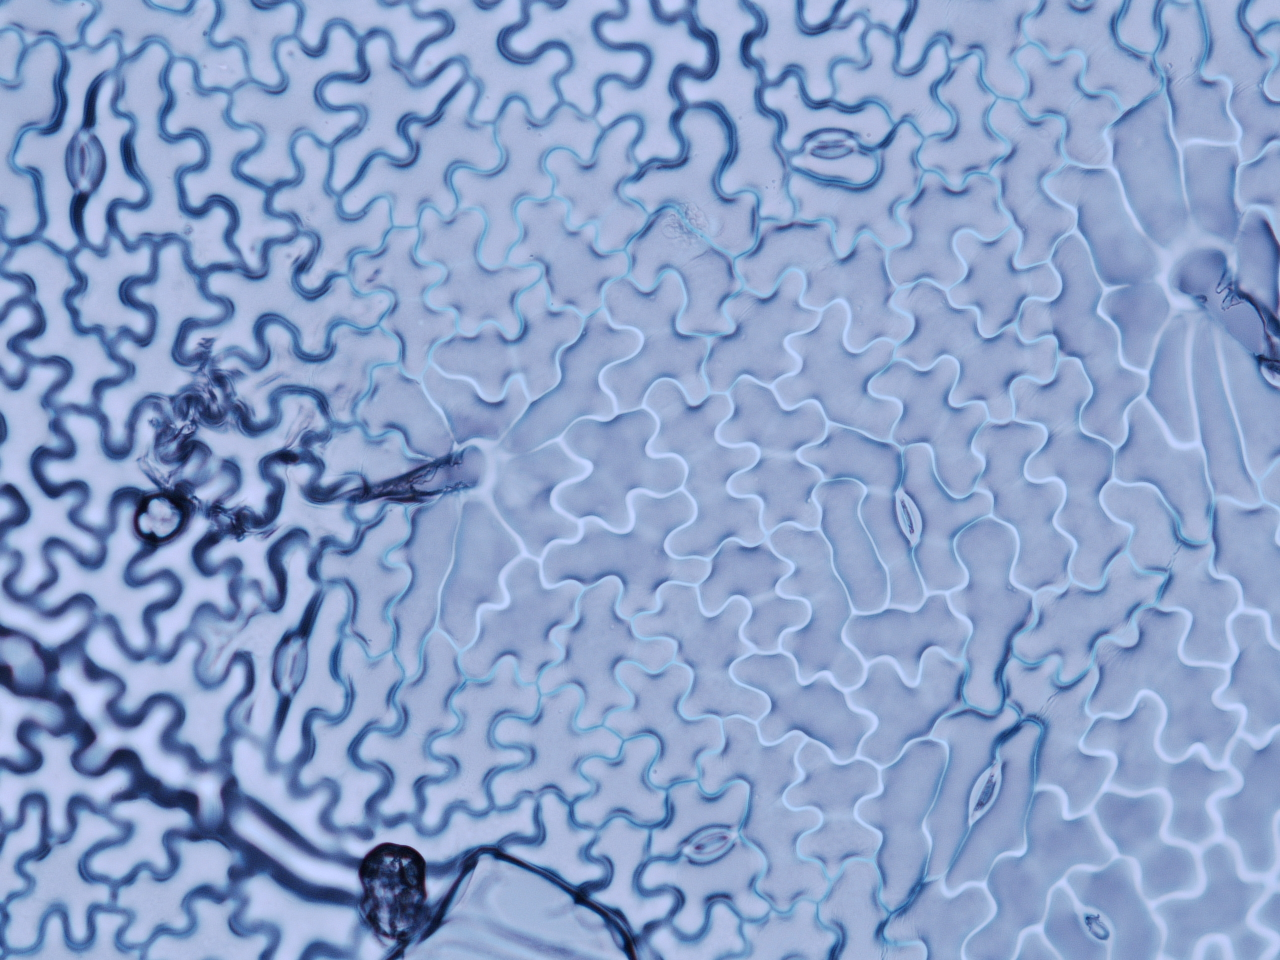estoma: (683, 820, 745, 865), (888, 489, 930, 548), (271, 633, 309, 698), (965, 763, 1003, 827), (65, 133, 104, 193), (800, 129, 860, 158), (1082, 910, 1111, 947)
